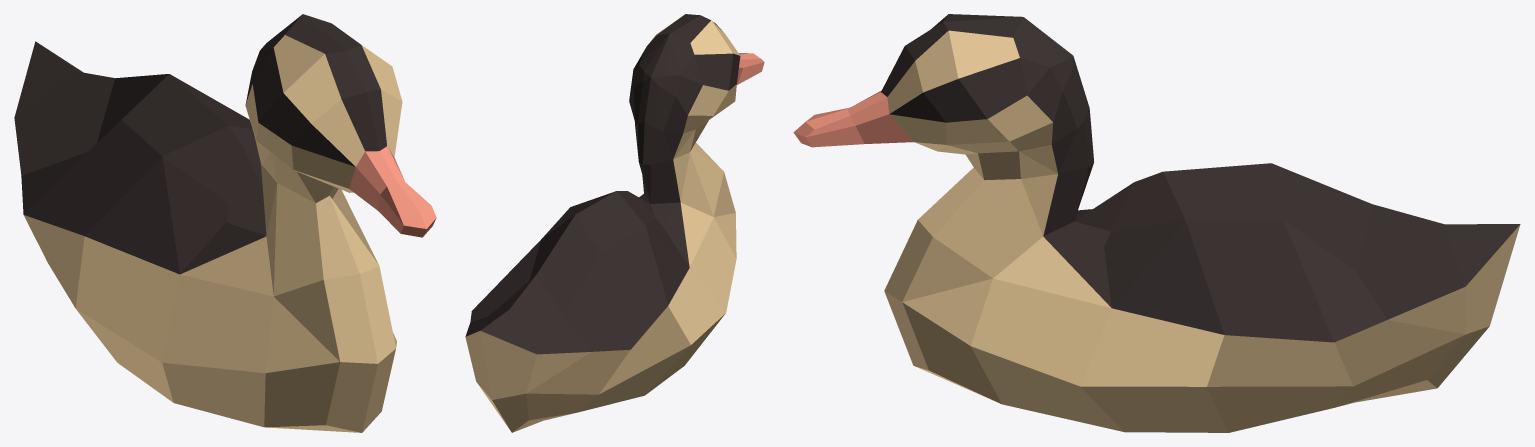
The model's file is parc_duckling.fbx.
3 views of the same model, side by side, from view 1: azimuth 30°, elevation 25°; view 2: azimuth 150°, elevation 25°; view 3: azimuth 270°, elevation 25° (orthographic). The views are drawn at different scales.
Visible parts, largest first — view 1: duck_baby; view 2: duck_baby; view 3: duck_baby.
Boxes of the visible parts, x1,y1,x2,y2 form: duck_baby: (14, 14, 436, 432); duck_baby: (465, 14, 764, 432); duck_baby: (793, 14, 1520, 432).
Size of the model in its own units: 10.02 by 15.78 by 26.41.
